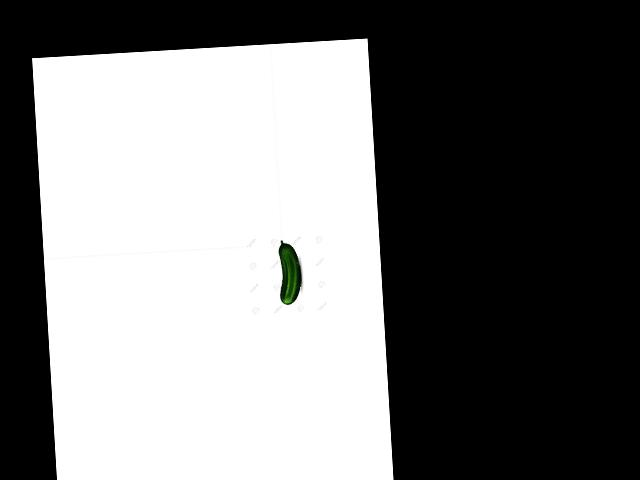cucumber: (277, 239, 303, 305)
